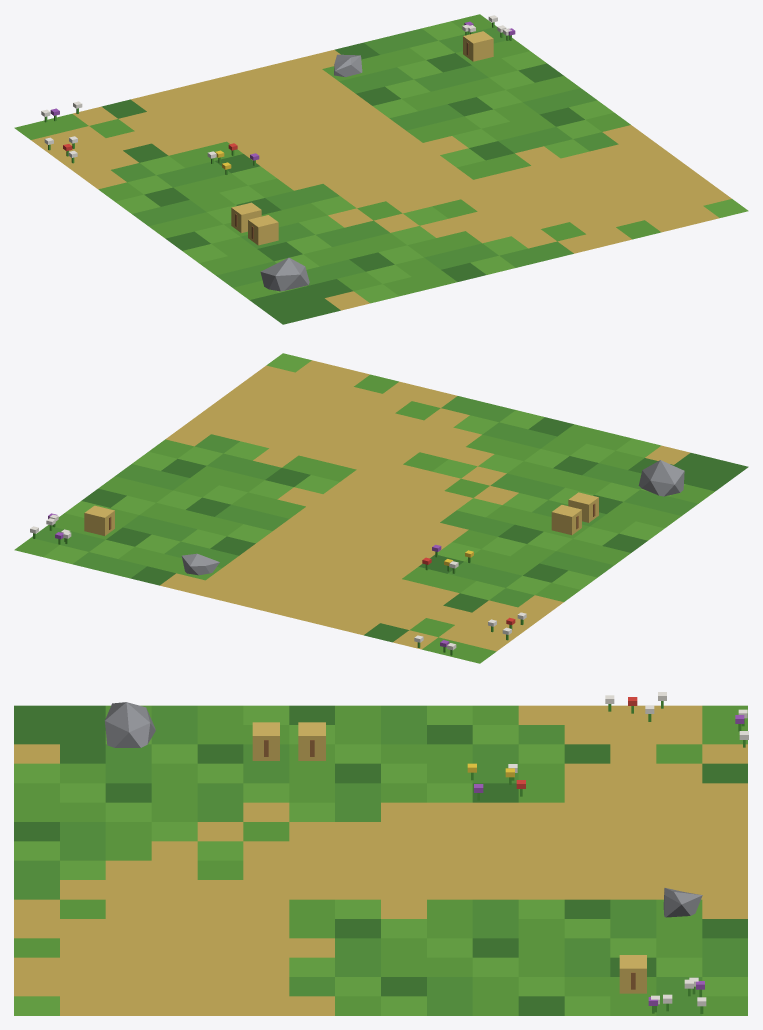
File: chunk_8_8.glb
3 renders of one model, top to bottom at view 1: azimuth 30°, elevation 25°; view 2: azimuth 150°, elevation 25°; view 3: azimuth 270°, elevation 25°, orthographic. The views are drawn at different scales.
Visible parts, largest first — view 1: chunk_8_8; view 2: chunk_8_8; view 3: chunk_8_8.
Boxes of the visible parts, x1,y1,x2,y2 form: chunk_8_8: (14,14,748,324); chunk_8_8: (14,353,748,663); chunk_8_8: (14,692,748,1015).
Size of the model in its own units: 16 by 1.32 by 16.02.
